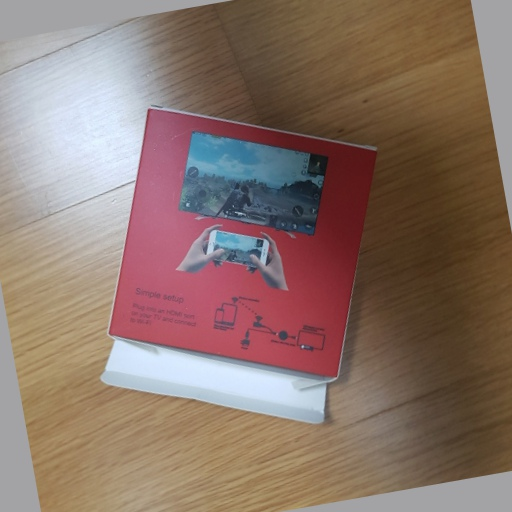Paper_0: (91, 94, 387, 433)
